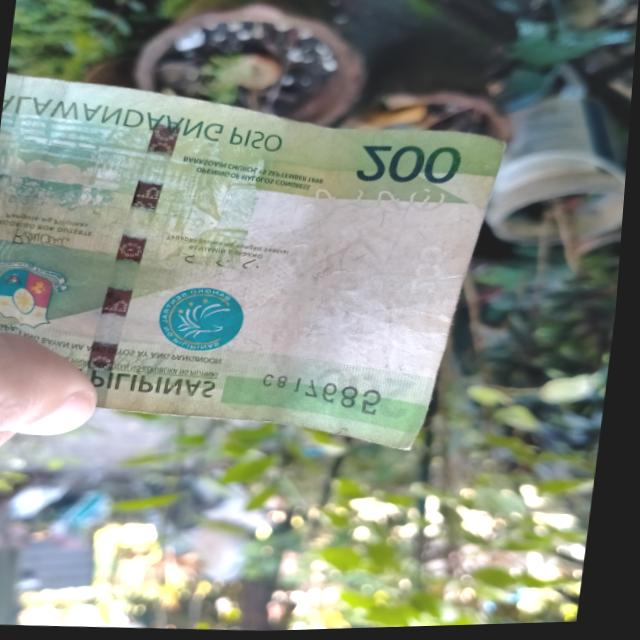security_thread: (81, 105, 190, 417)
see_through_mark: (283, 176, 457, 236)
serial_number: (259, 367, 409, 422)
value_watermark: (403, 240, 456, 305)
watermark: (236, 212, 424, 397)
